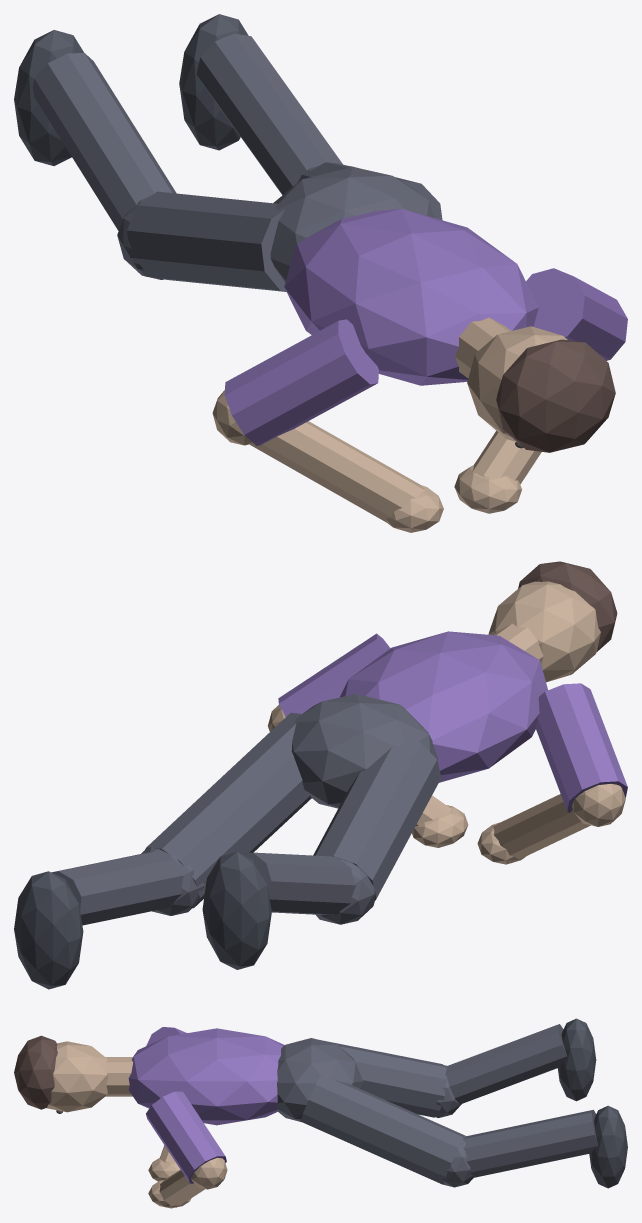
3 renders of one model, top to bottom at view 1: azimuth 30°, elevation 25°; view 2: azimuth 150°, elevation 25°; view 3: azimuth 270°, elevation 25°, orthographic. The views are drawn at different scales.
Visible parts, largest first — view 1: world; view 2: world; view 3: world.
Part boxes in pixels (left/top/right/bottom): world: left=14, top=14, right=627, bottom=532; world: left=14, top=561, right=627, bottom=989; world: left=14, top=1018, right=627, bottom=1208.
Bounding box in the file's own units: 0.93 × 0.57 × 2.01.
